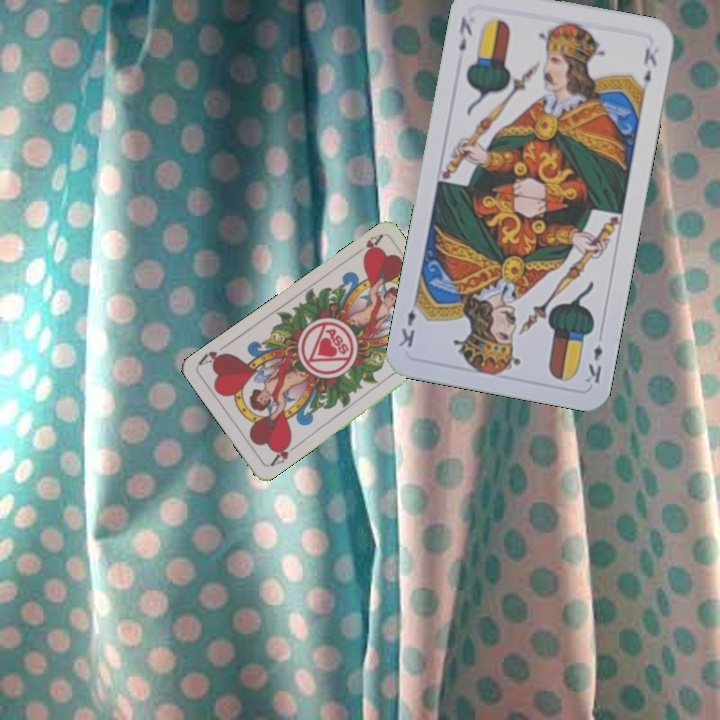EK: (582, 340, 606, 386), (455, 13, 475, 54)
HA: (266, 436, 301, 469), (349, 231, 385, 261)
